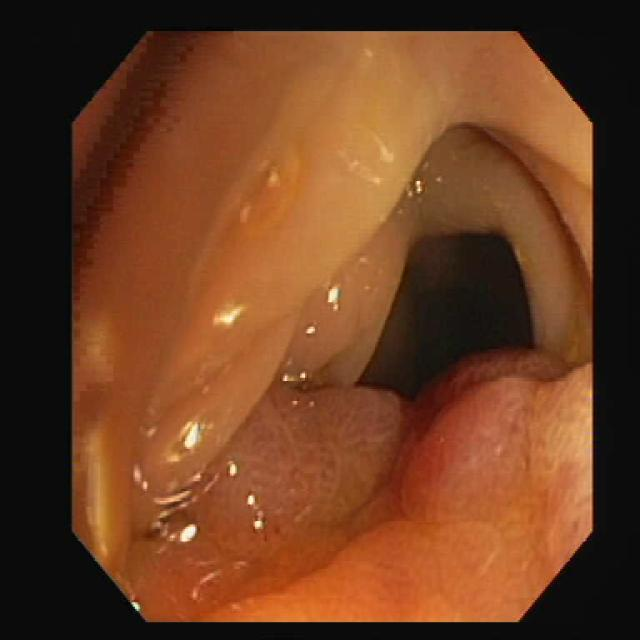tumor: (392, 353, 535, 520)
